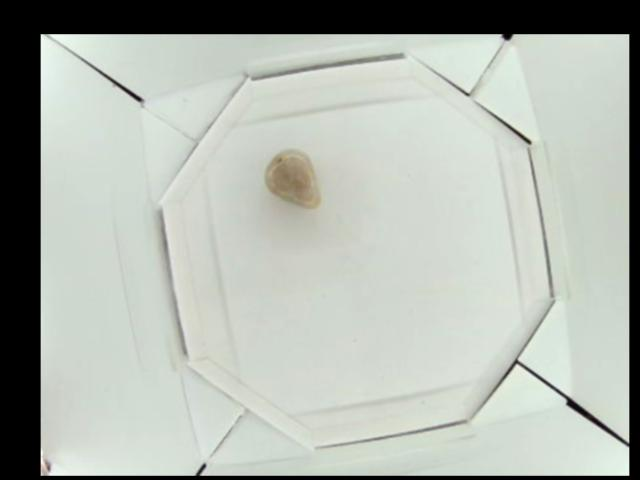Pebble: (261, 148, 321, 210)
